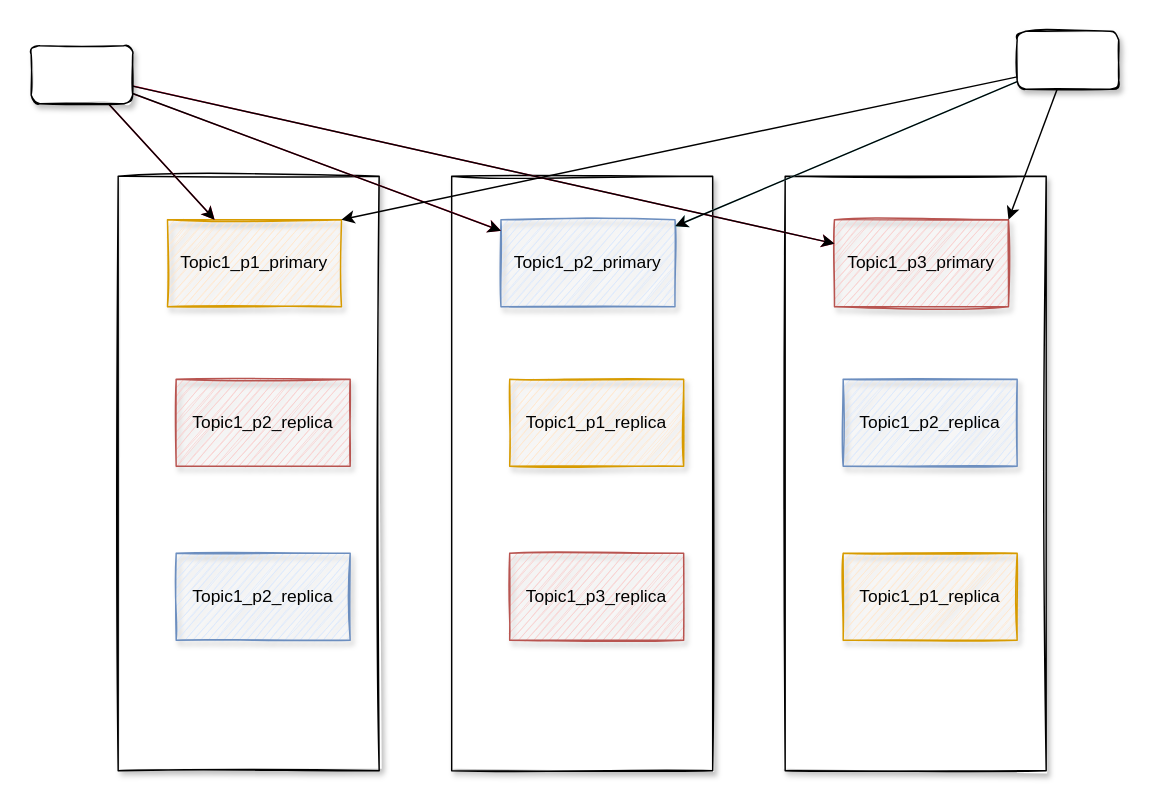
Image size: 1153x806. Some labels were removed from this diagram. The centre of each missing label's shape, as x and y in pixels:
"consumer" belongs at [1068,61].
"product" belongs at [82,76].
